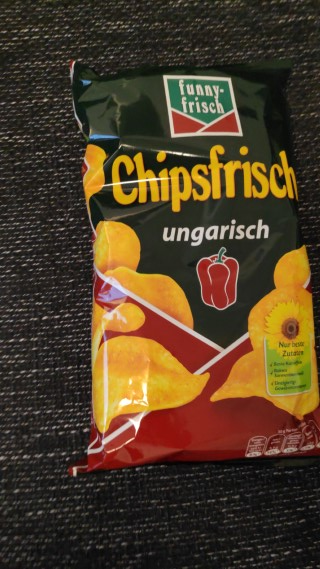chipsfrisch: (65, 54, 320, 478)
